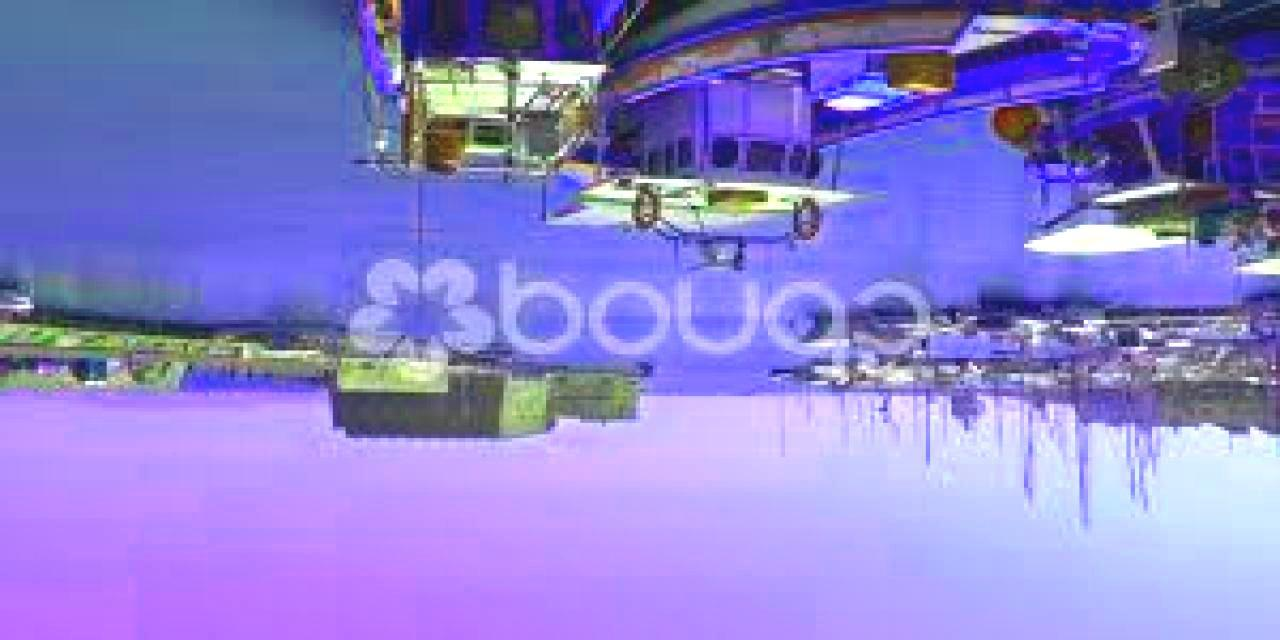Kules: (328, 360, 650, 450)
